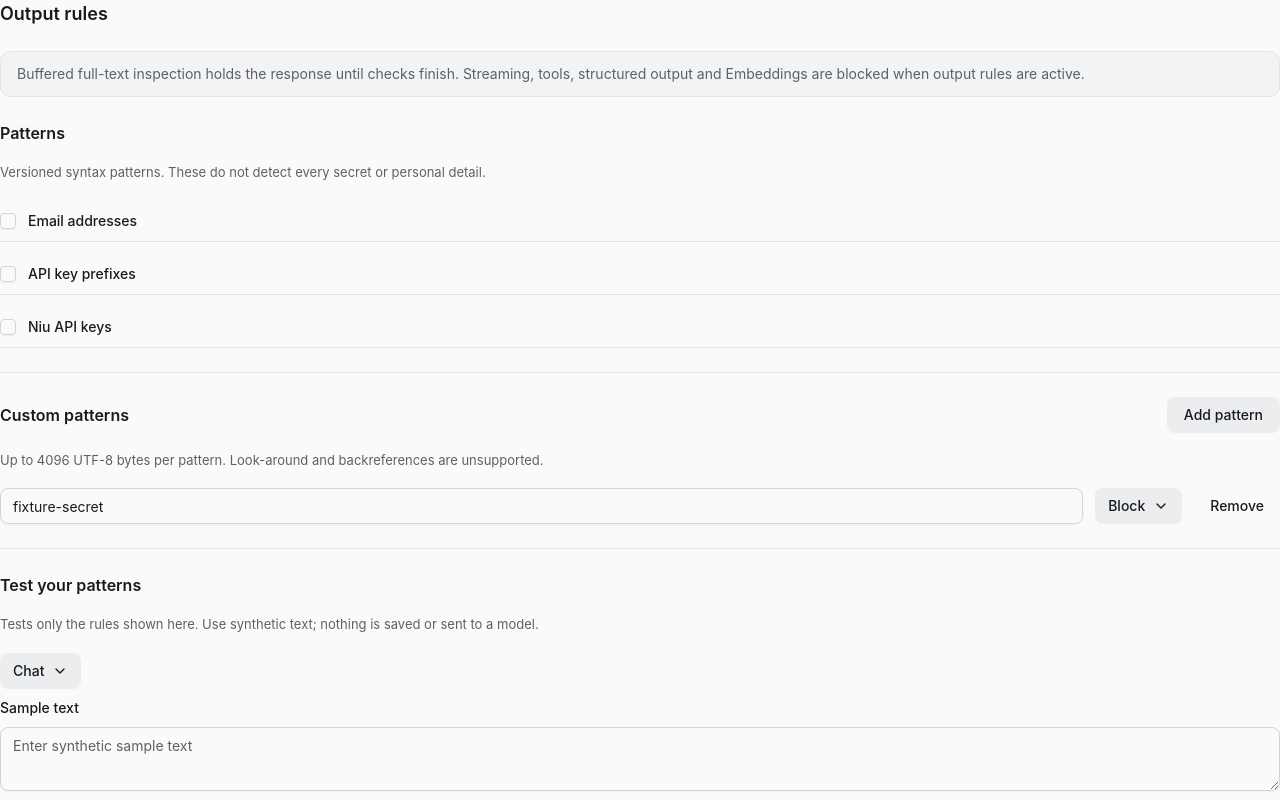
Test case: local content controls › constructs complete output fixtures and excludes unsupported Embeddings tests
The image size is (1280, 800).
Click the button with aria-label "Test protocol". click: (41, 670)
box: [0, 652, 81, 688]
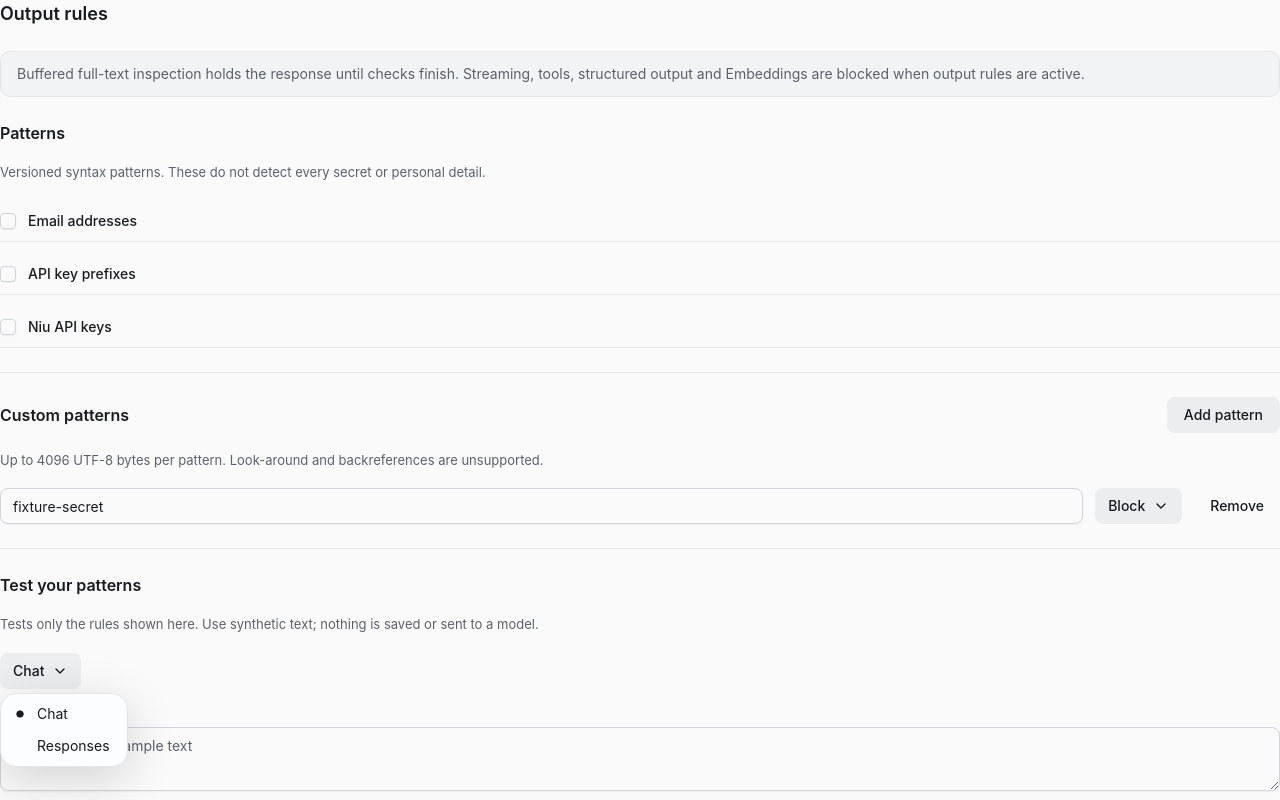
Click the menu item "Responses". click: (73, 746)
box: [37, 737, 110, 754]
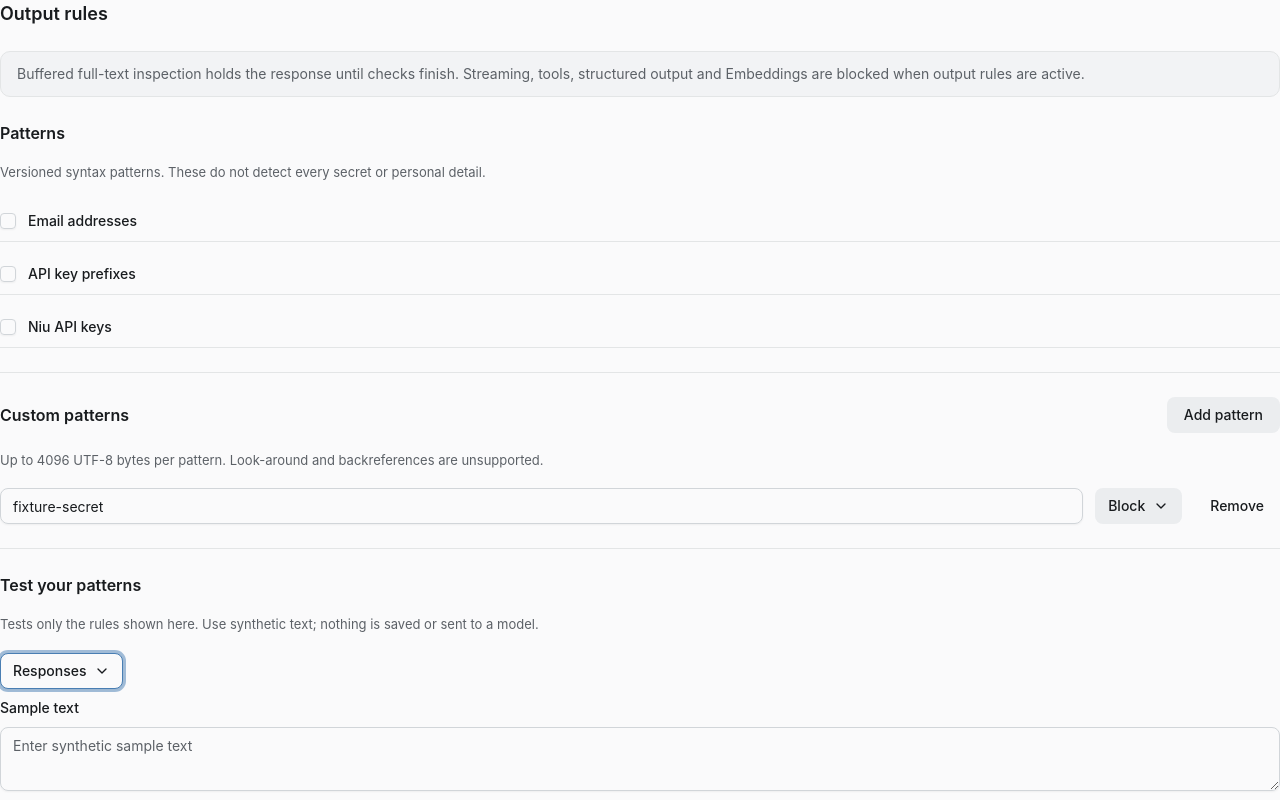
Type "fixture-secret" into the text box labelled "Sample text". click: (640, 758)
box: [0, 726, 1279, 790]
(page scrolled)
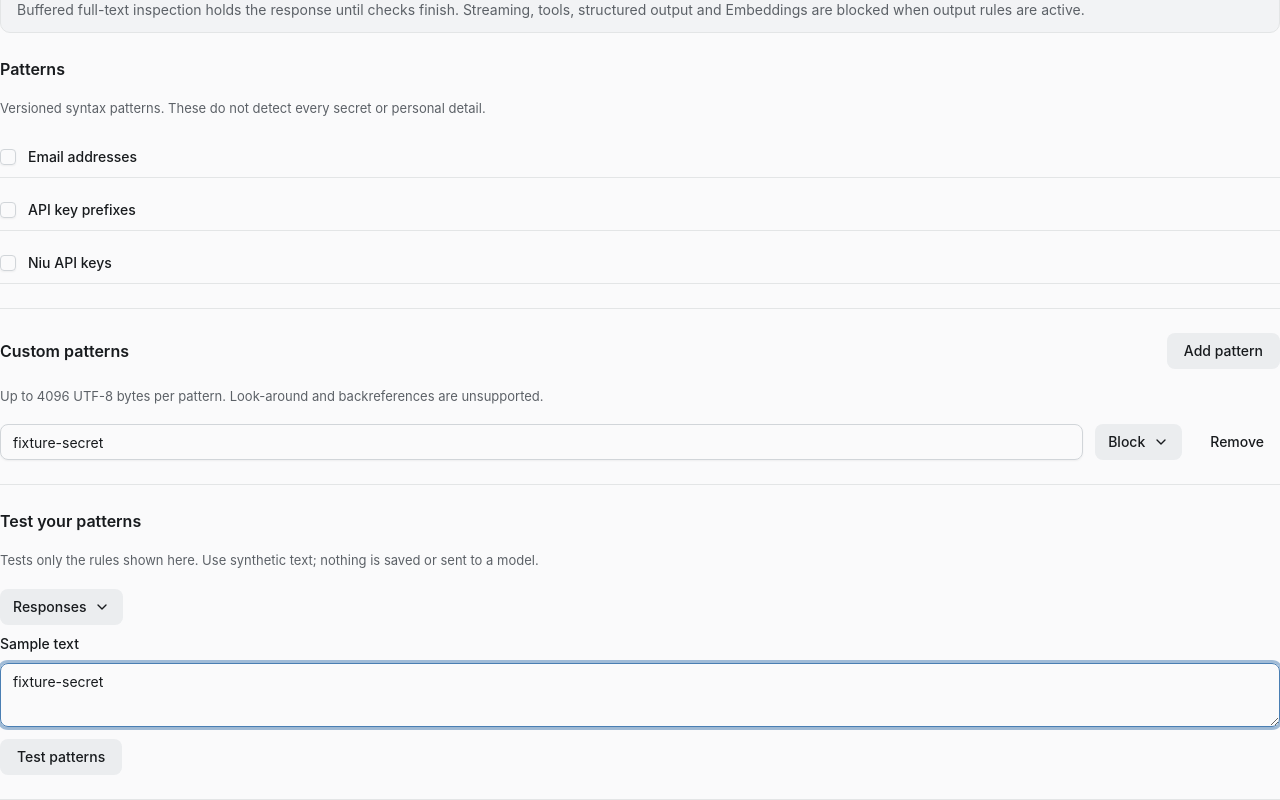
Click the button "Test patterns". click: (61, 756)
box: [0, 738, 122, 774]
(page scrolled)
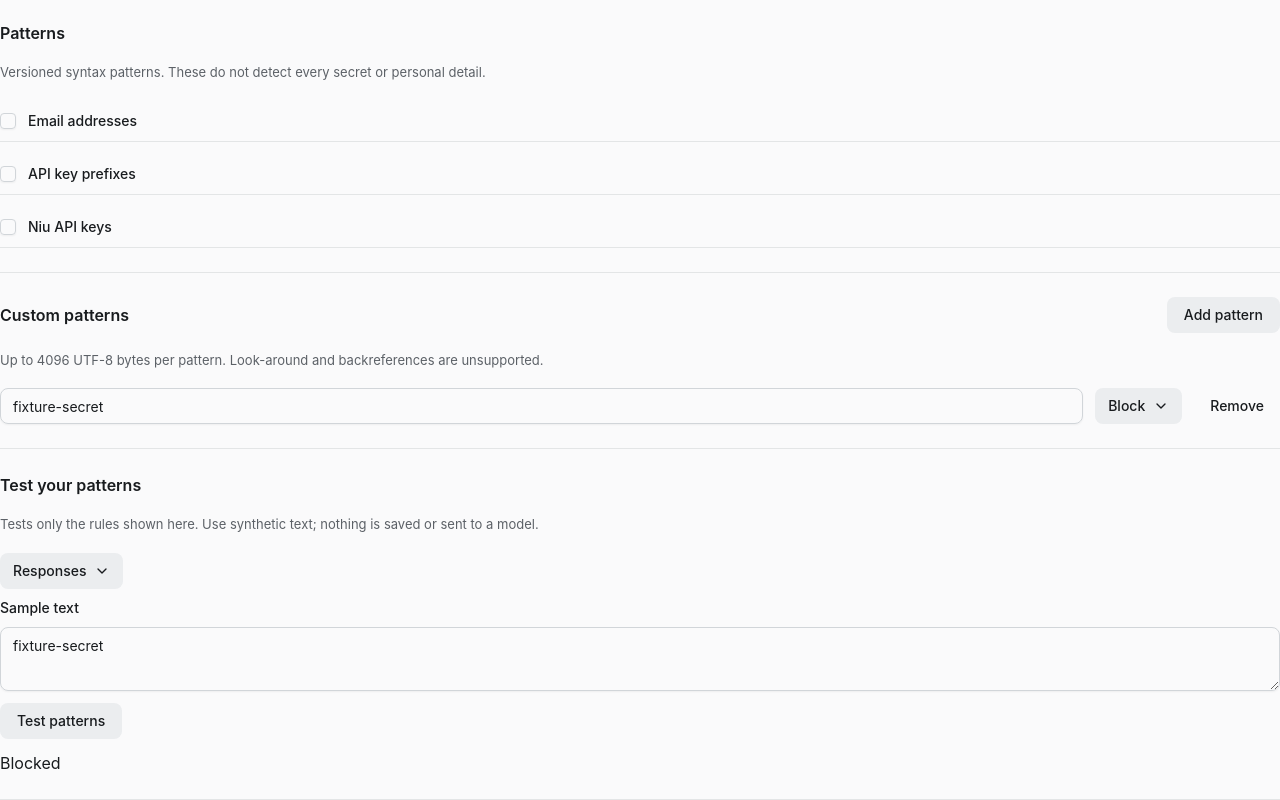
expect the text "Blocked" is shown: met, box [0, 752, 61, 772]
